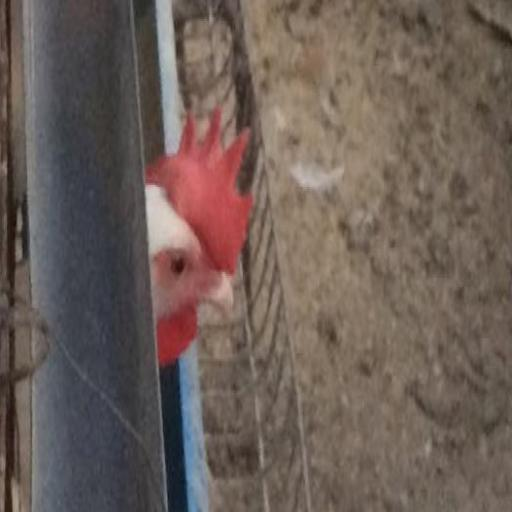healthy: (156, 114, 252, 340)
